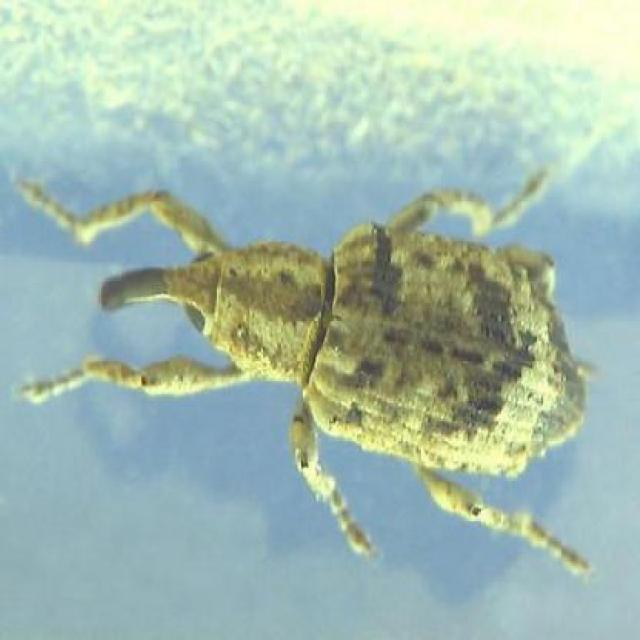rice-bug: (97, 170, 601, 499)
